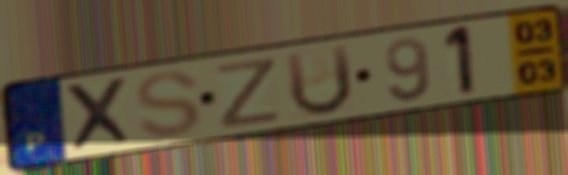1: (440, 22, 479, 99)
9: (382, 35, 433, 104)
S: (132, 68, 205, 141)
U: (282, 40, 357, 120)
X: (60, 74, 140, 156)
Z: (213, 54, 284, 132)
